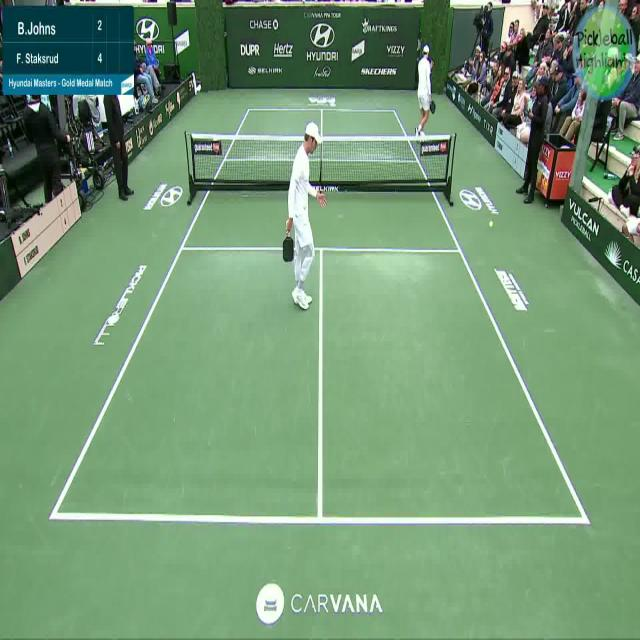Court: (52, 108, 591, 527)
ball: (483, 208, 499, 235)
